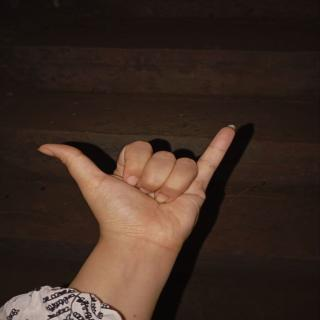YA: (33, 107, 275, 266)
